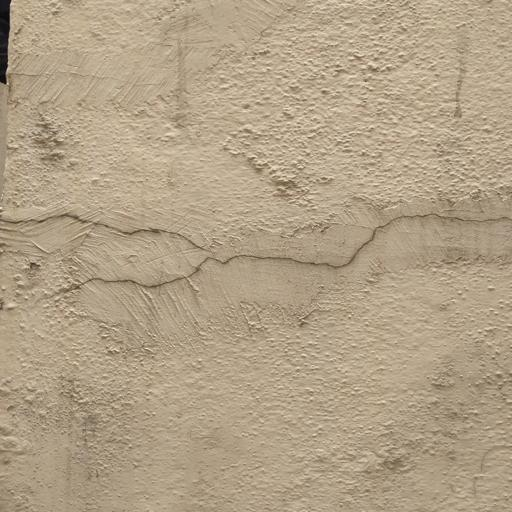minor_crack: (0, 152, 512, 321)
